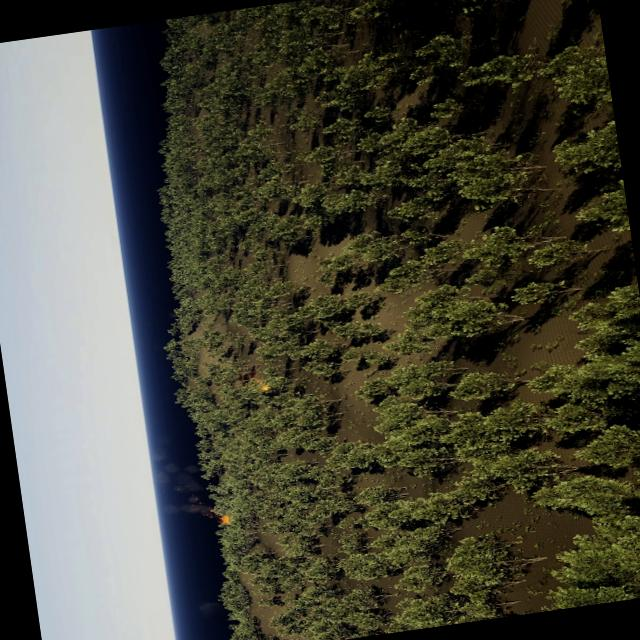fire: (216, 512, 232, 524), (260, 384, 270, 391)
smoke: (152, 436, 210, 524), (230, 366, 262, 387), (197, 598, 224, 616)
